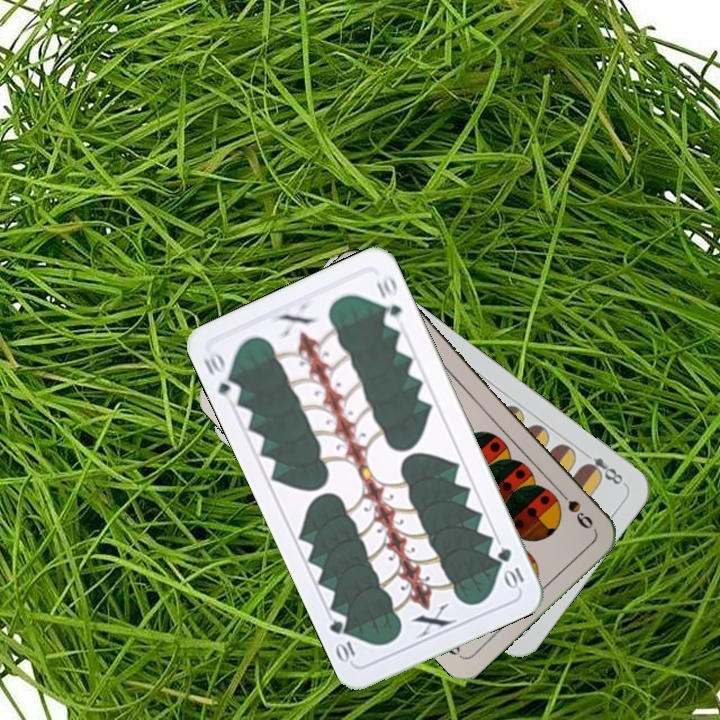E8: (578, 446, 626, 488)
G10: (199, 346, 244, 405), (493, 543, 527, 592)
S9: (552, 484, 596, 532)
